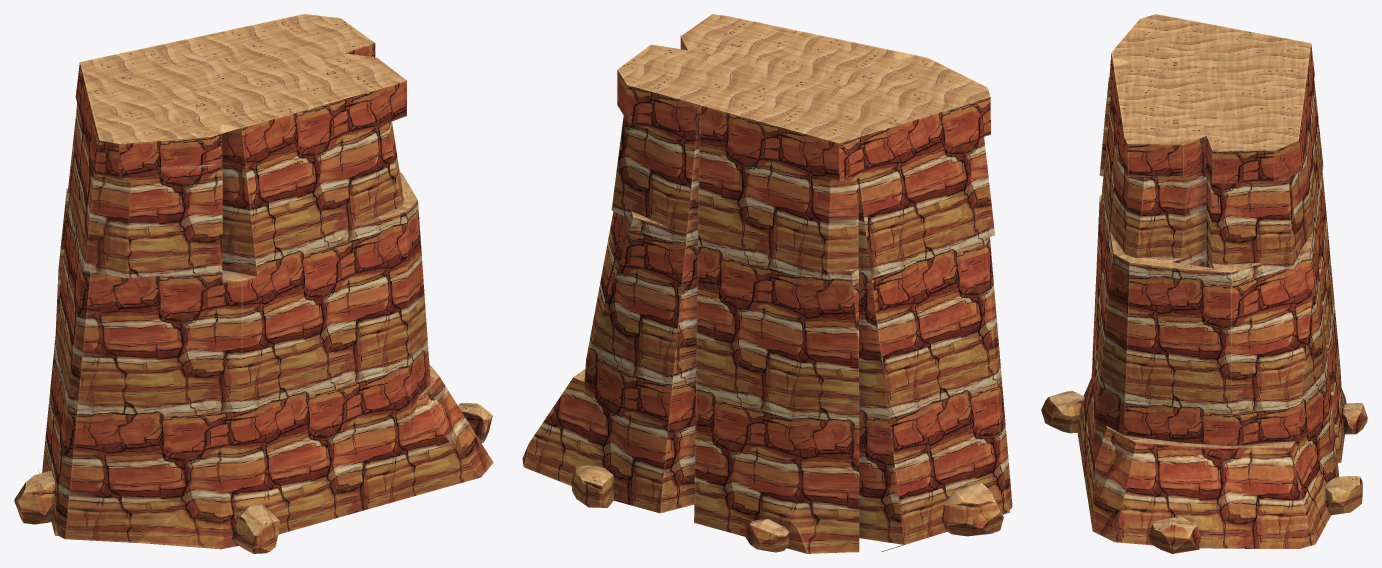
Rendered from cliff_block_02.glb.
3 views of the same model, side by side, from view 1: azimuth 30°, elevation 25°; view 2: azimuth 150°, elevation 25°; view 3: azimuth 270°, elevation 25° (orthographic). The views are drawn at different scales.
Visible parts, largest first — view 1: cliff_block_02; view 2: cliff_block_02; view 3: cliff_block_02.
Part boxes in pixels (<box>): cliff_block_02: <box>14,14,493,553</box>; cliff_block_02: <box>522,14,1012,553</box>; cliff_block_02: <box>1041,14,1367,553</box>.
Bounding box in the file's own units: 6.81 × 5.8 × 4.73.
1 material, 1 textured.
